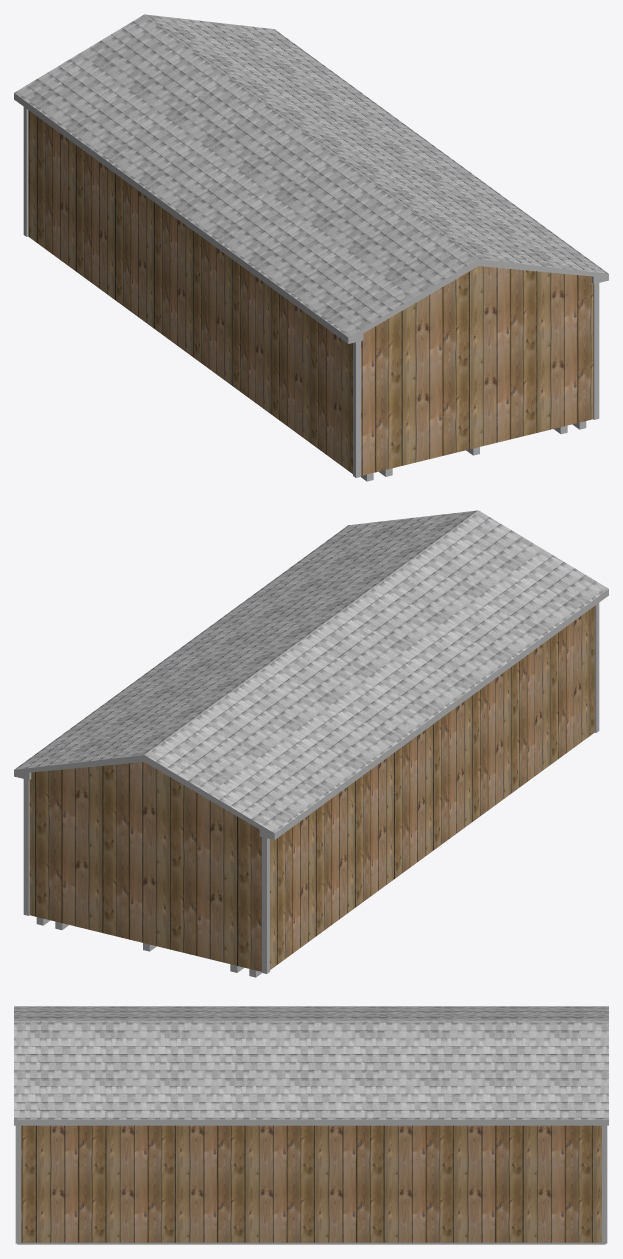
Rendered from A-frame_12x28.obj.
3 views of the same model, one above another, from view 1: azimuth 30°, elevation 25°; view 2: azimuth 150°, elevation 25°; view 3: azimuth 270°, elevation 25° (orthographic). The views are drawn at different scales.
Visible parts, largest first — view 1: Roof, Shed, Sides, Trim; view 2: Roof, Shed, Sides, Trim; view 3: Shed, Roof, Sides, Floor, Trim.
Part boxes in pixels (<box>): Roof: <box>14,14,608,337</box>; Shed: <box>28,110,593,475</box>; Sides: <box>14,93,608,343</box>; Trim: <box>23,107,599,477</box>; Roof: <box>14,510,608,833</box>; Shed: <box>29,606,594,971</box>; Sides: <box>14,589,608,839</box>; Trim: <box>23,603,599,973</box>; Shed: <box>21,1125,601,1242</box>; Roof: <box>14,1006,608,1119</box>; Sides: <box>14,1119,608,1125</box>; Floor: <box>17,1242,605,1244</box>; Trim: <box>15,1125,607,1243</box>.
Bounding box in the file's own units: 3.89 × 2.81 × 8.64.
